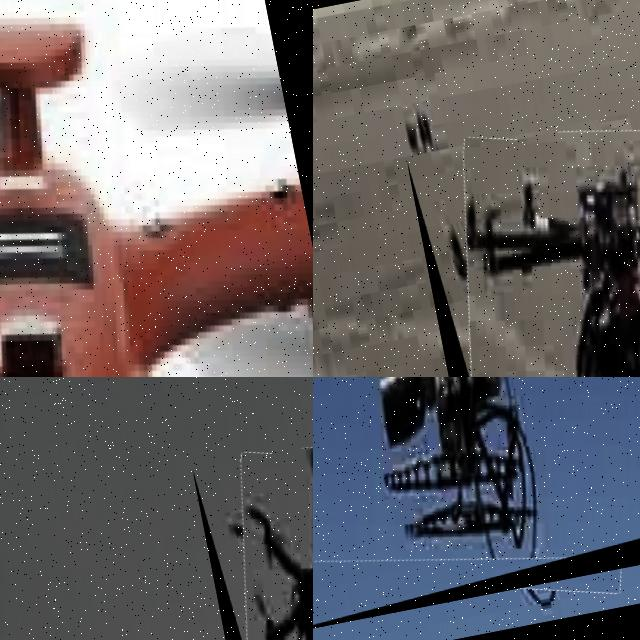drone: (0, 0, 313, 377), (313, 377, 640, 640), (407, 108, 640, 377), (192, 434, 313, 640)
